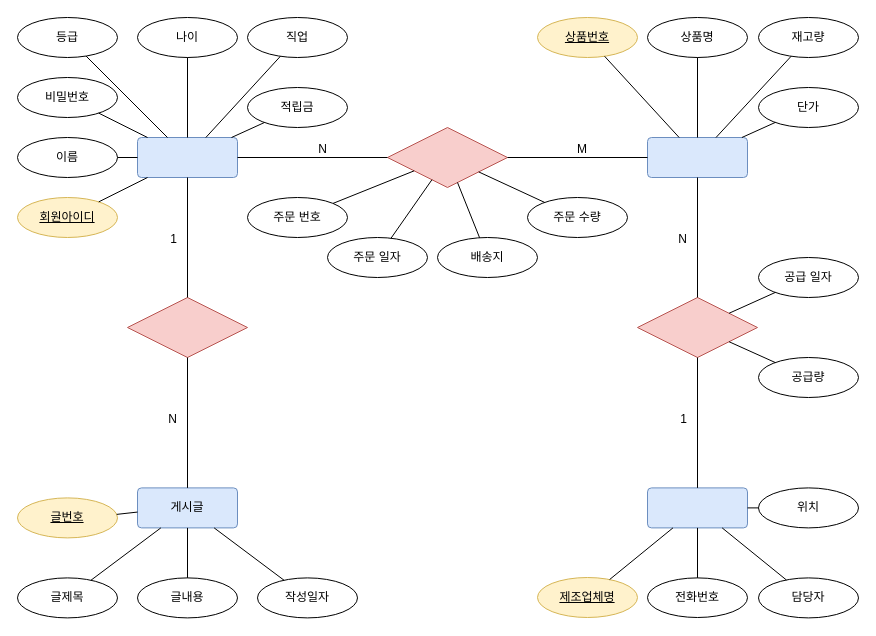
The diagram is 876 pixels wide and 636 high, and some of its shapes have lost their labels. The shapes that lost their labels are listed below. From the top down, each one's box as (x1, y1, x2, y2) in pixels, then its label:
(136, 136, 238, 178): 회원
(386, 126, 508, 188): 주문
(646, 136, 748, 178): 상품
(126, 296, 248, 358): 작성
(636, 296, 758, 358): 공급
(646, 487, 748, 528): 제조업체
